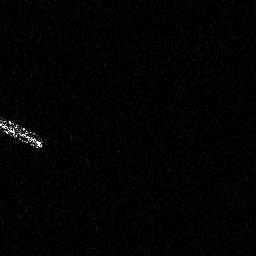ship: (1, 113, 45, 152)
